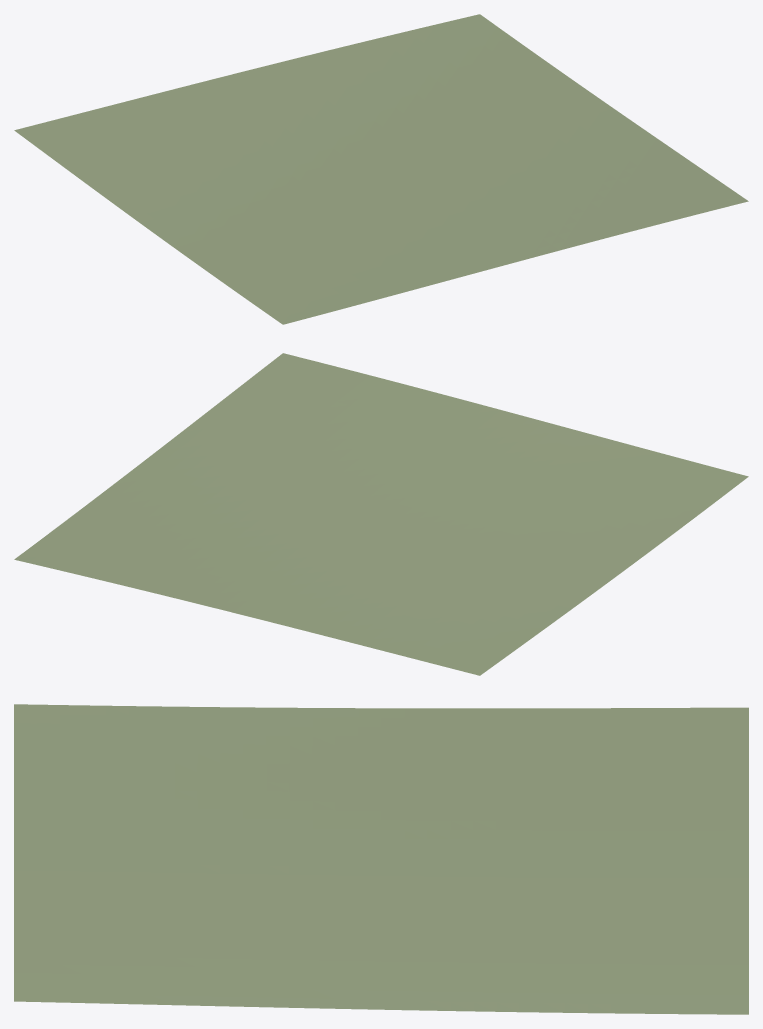
The model's file is expanse-2-14.glb.
3 renders of one model, top to bottom at view 1: azimuth 30°, elevation 25°; view 2: azimuth 150°, elevation 25°; view 3: azimuth 270°, elevation 25°, orthographic. The views are drawn at different scales.
Parts seen in each view (by area): view 1: expanse-2-14; view 2: expanse-2-14; view 3: expanse-2-14.
Part boxes in pixels (<box>): expanse-2-14: <box>14,14,748,324</box>; expanse-2-14: <box>14,353,748,675</box>; expanse-2-14: <box>14,704,748,1014</box>.
Size of the model in its own units: 256 by 6.72 by 256.
